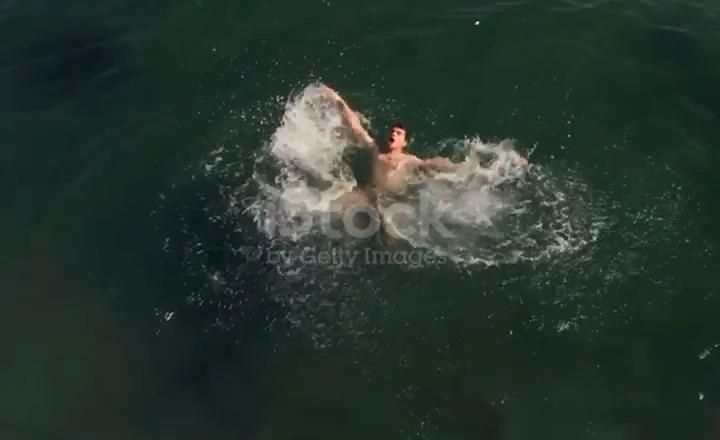Drowning: (264, 51, 543, 278)
